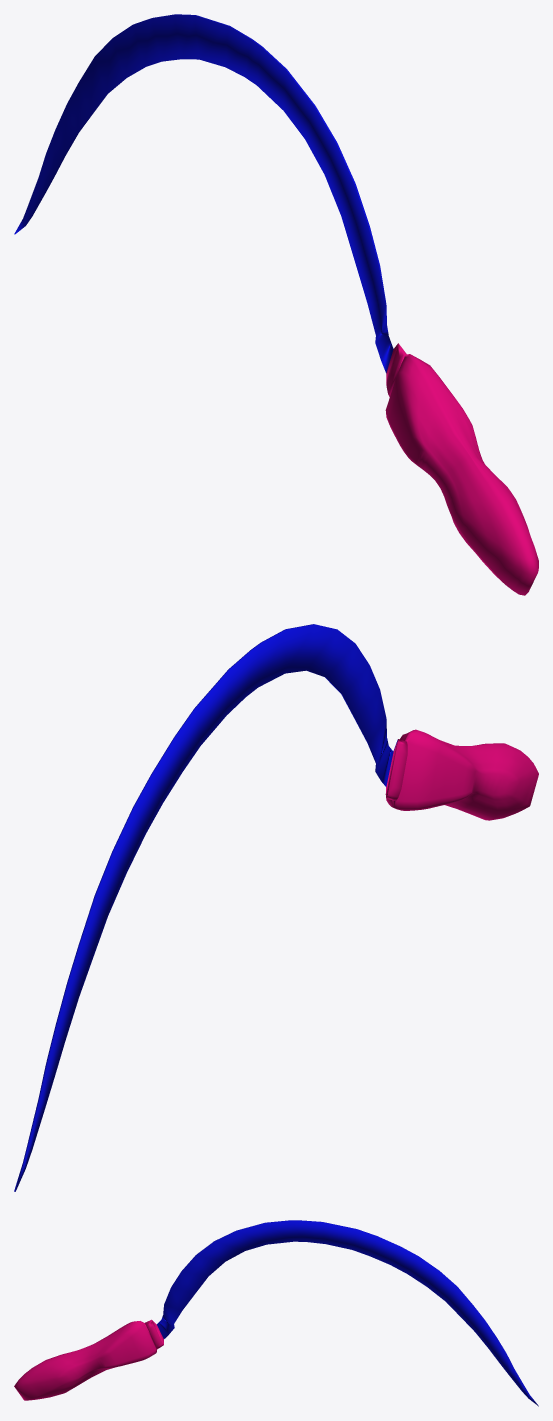
Rendered from Hoz.fbx.
3 views of the same model, one above another, from view 1: azimuth 30°, elevation 25°; view 2: azimuth 150°, elevation 25°; view 3: azimuth 270°, elevation 25° (orthographic). The views are drawn at different scales.
Parts seen in each view (by area): view 1: Plane; view 2: Plane; view 3: Plane.
Boxes of the visible parts, box(x1,y1,x2,y2) form: Plane: box(14, 14, 538, 595); Plane: box(14, 624, 538, 1191); Plane: box(14, 1220, 538, 1406).
Size of the model in its own units: 29.72 by 179 by 458.
